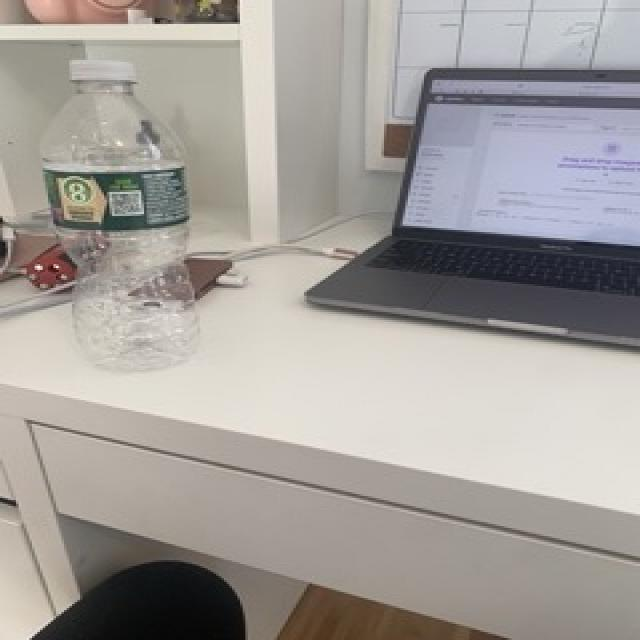water_bottle: (34, 58, 211, 376)
